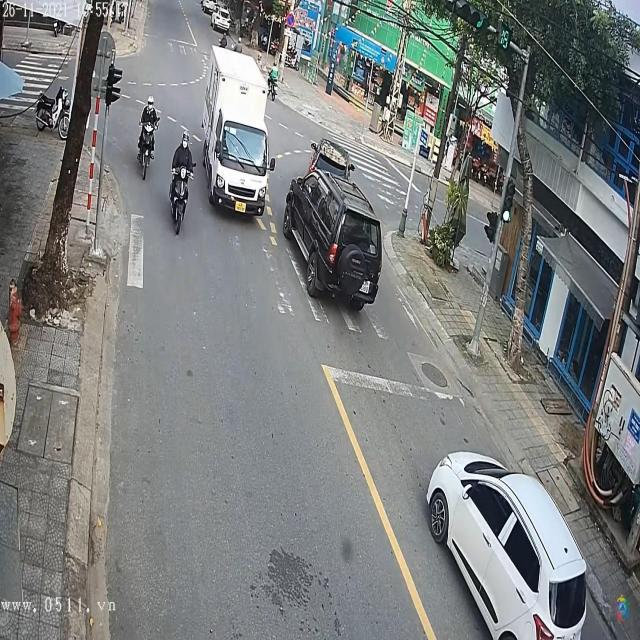bus: (282, 160, 382, 311)
car: (424, 450, 593, 640)
motorcycle: (168, 165, 194, 237), (138, 114, 155, 179)
truck: (207, 48, 272, 216)
